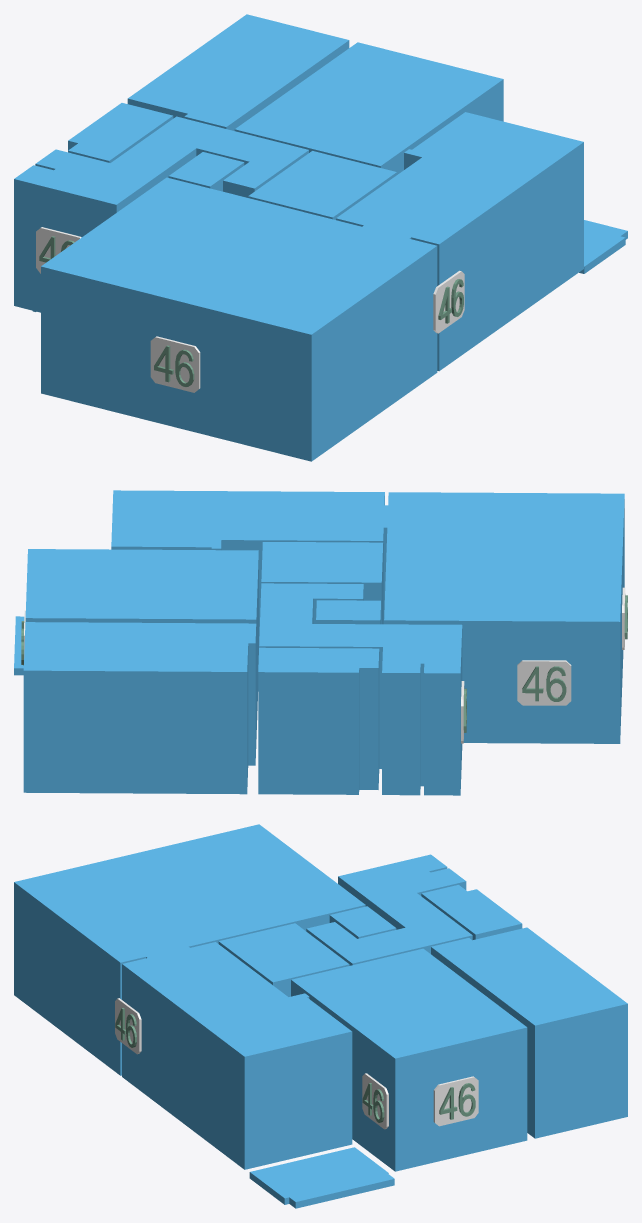
The picture shows the model from 3 angles, top to bottom: view 1: azimuth 30°, elevation 25°; view 2: azimuth 150°, elevation 25°; view 3: azimuth 270°, elevation 25°; orthographic projection. The views are drawn at different scales.
Parts seen in each view (by area): view 1: g_1, g_0, g_3, g_7, g_4, g_2, g_5, g_14, g_6, g_8, g_17, g_23; view 2: g_1, g_4, g_7, g_5, g_3, g_0, g_2, g_11, g_6, g_8; view 3: g_1, g_0, g_3, g_4, g_7, g_8, g_2, g_5, g_26, g_6, g_20, g_17.
Part boxes in pixels (<box>): g_1: <box>41,177,437,461</box>; g_0: <box>336,112,583,371</box>; g_3: <box>234,42,503,174</box>; g_7: <box>14,116,308,312</box>; g_4: <box>127,14,349,130</box>; g_2: <box>248,151,396,219</box>; g_5: <box>68,103,173,162</box>; g_14: <box>150,336,200,392</box>; g_6: <box>168,152,244,191</box>; g_8: <box>579,220,627,273</box>; g_17: <box>433,270,464,333</box>; g_23: <box>36,227,81,273</box>; g_1: <box>384,492,624,743</box>; g_4: <box>23,622,256,794</box>; g_7: <box>259,583,462,795</box>; g_5: <box>258,647,379,794</box>; g_3: <box>25,549,258,738</box>; g_0: <box>111,490,386,645</box>; g_2: <box>261,542,383,624</box>; g_11: <box>517,660,571,705</box>; g_6: <box>316,600,380,624</box>; g_8: <box>14,616,24,675</box>; g_1: <box>14,824,365,1075</box>; g_0: <box>122,942,352,1169</box>; g_3: <box>291,948,527,1171</box>; g_4: <box>431,927,627,1138</box>; g_7: <box>306,854,472,965</box>; g_8: <box>249,1147,394,1208</box>; g_2: <box>218,923,349,996</box>; g_5: <box>421,885,522,939</box>; g_26: <box>433,1076,478,1126</box>; g_6: <box>329,906,396,938</box>; g_20: <box>362,1073,388,1129</box>; g_17: <box>115,998,141,1054</box>.
Size of the model in its own units: 12.9 by 2.74 by 12.67.
